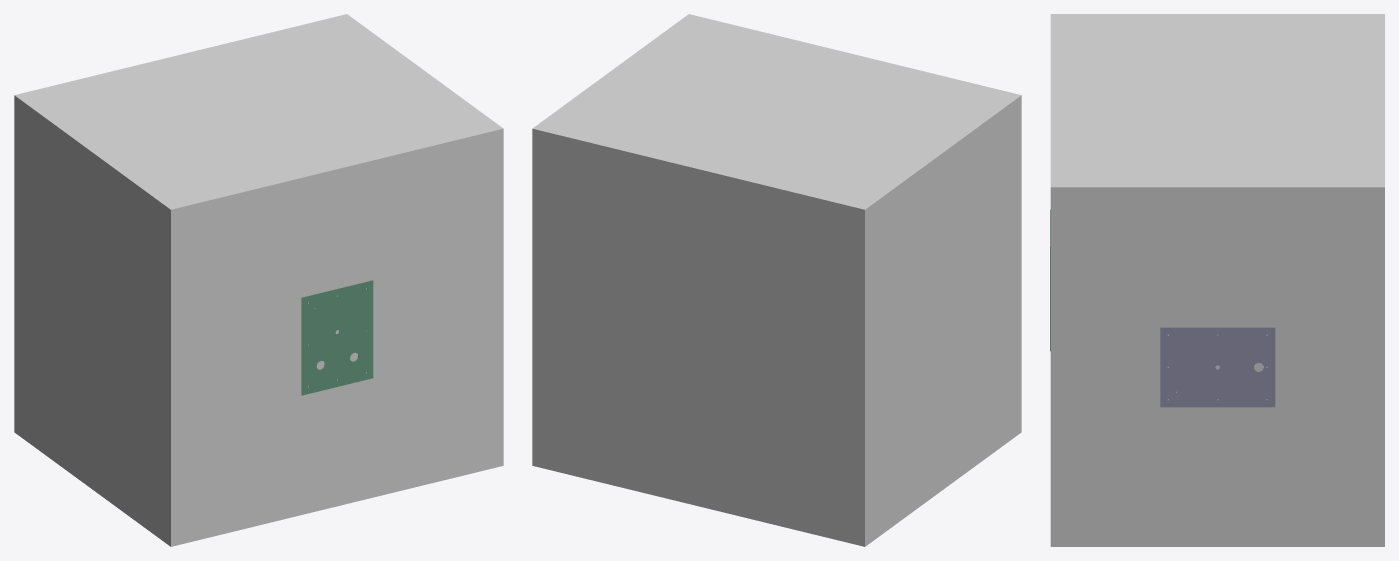
Rendered from assembly.glb.
3 views of the same model, side by side, from view 1: azimuth 30°, elevation 25°; view 2: azimuth 150°, elevation 25°; view 3: azimuth 270°, elevation 25° (orthographic). The views are drawn at different scales.
Parts seen in each view (by area): view 1: container_shell, ARC-PLT-CD; view 2: container_shell; view 3: container_shell, ARC-PLT-CG.
Part boxes in pixels (left/top/right/bottom): container_shell: left=14, top=14, right=503, bottom=546; ARC-PLT-CD: left=301, top=280, right=373, bottom=395; container_shell: left=532, top=14, right=1021, bottom=546; container_shell: left=1050, top=14, right=1384, bottom=546; ARC-PLT-CG: left=1160, top=327, right=1275, bottom=407.
Bounding box in the file's own units: 2996 × 2896 × 2443.
